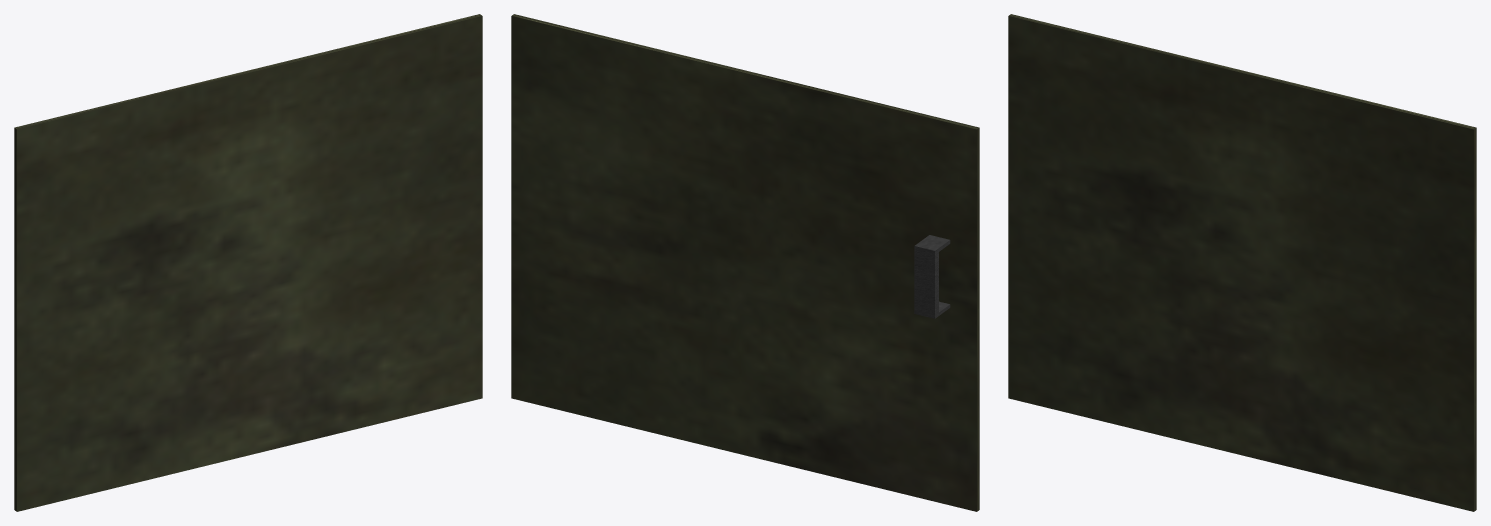
Rendered from panel.fbx.
The picture shows the model from 3 angles, left to right: view 1: azimuth 30°, elevation 25°; view 2: azimuth 150°, elevation 25°; view 3: azimuth 330°, elevation 25°; orthographic projection.
Parts seen in each view (by area): view 1: Cube; view 2: Cube; view 3: Cube.
Boxes of the visible parts, x1,y1,x2,y2 form: Cube: (14,14,482,511); Cube: (511,14,979,511); Cube: (1008,14,1476,511).
Size of the model in its own units: 60.18 by 47.25 by 3.99.
